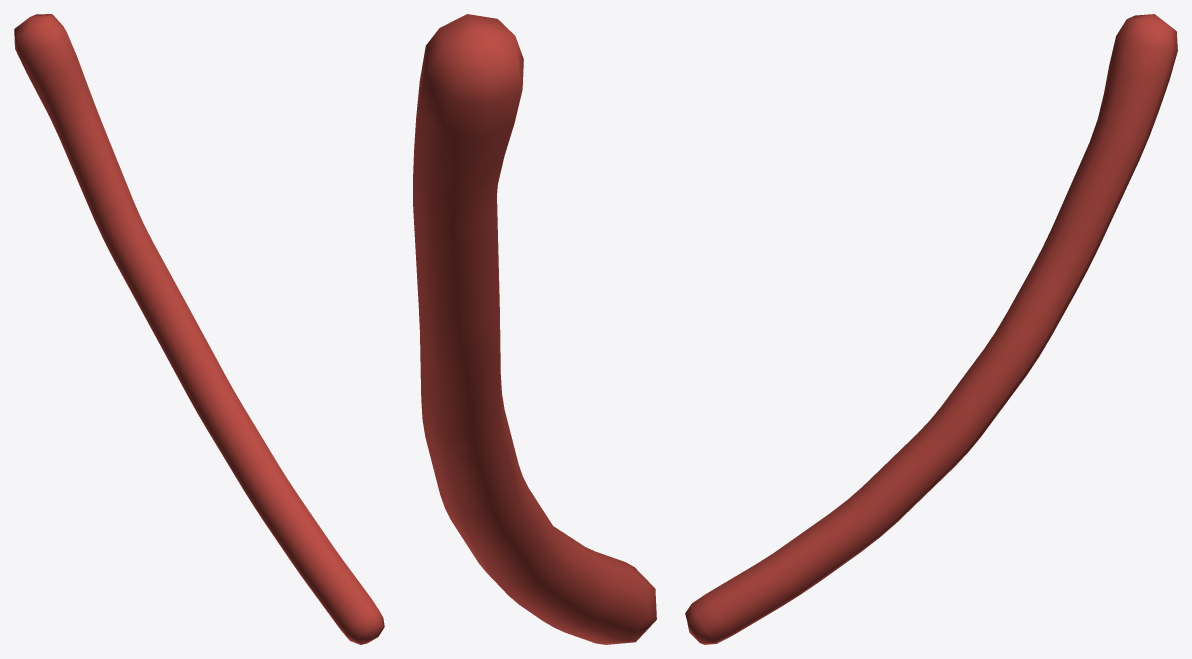
File: musculos-tendon-sheath-of-extensor-hallucis-longus-r.glb
The picture shows the model from 3 angles, left to right: view 1: azimuth 30°, elevation 25°; view 2: azimuth 150°, elevation 25°; view 3: azimuth 270°, elevation 25°; orthographic projection. The views are drawn at different scales.
Visible parts, largest first — view 1: Tendon sheath of extensor hallucis longus.r; view 2: Tendon sheath of extensor hallucis longus.r; view 3: Tendon sheath of extensor hallucis longus.r.
Part boxes in pixels (bbox=[...]): Tendon sheath of extensor hallucis longus.r: bbox=[14, 14, 384, 644]; Tendon sheath of extensor hallucis longus.r: bbox=[413, 14, 656, 644]; Tendon sheath of extensor hallucis longus.r: bbox=[685, 14, 1177, 644].
Bounding box in the file's own units: 0.0266 × 0.0782 × 0.0622.
